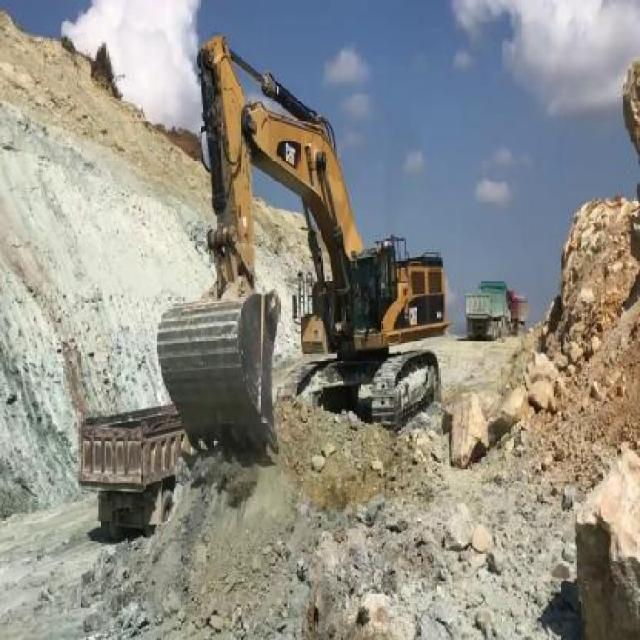dump_truck: (76, 407, 186, 538), (463, 278, 514, 340)
excavator: (157, 30, 443, 481)
